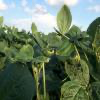Soyabean leaf: (56, 3, 72, 36)
